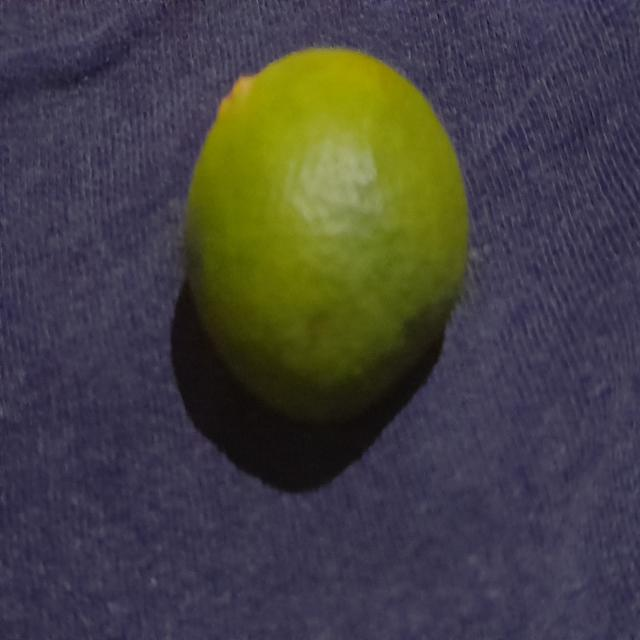heathy: (175, 39, 473, 436)
